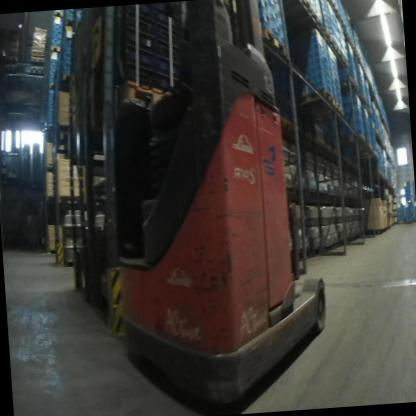forklift: (98, 0, 333, 416)
pallet: (119, 76, 172, 111), (300, 89, 336, 113), (262, 27, 287, 58), (309, 101, 345, 119), (308, 5, 325, 29), (295, 249, 316, 267), (325, 29, 339, 53), (340, 77, 360, 92), (339, 51, 350, 70), (281, 116, 294, 130), (28, 55, 45, 65), (61, 72, 71, 83), (51, 44, 61, 54), (7, 55, 17, 64), (54, 10, 65, 18), (296, 0, 308, 7), (360, 134, 368, 143), (65, 19, 73, 27), (368, 143, 374, 152), (374, 151, 380, 159), (398, 221, 405, 225), (407, 221, 413, 224)
small_load_carrier: (253, 4, 276, 33), (269, 15, 294, 40), (348, 109, 364, 126), (350, 123, 366, 134), (347, 102, 360, 113)
